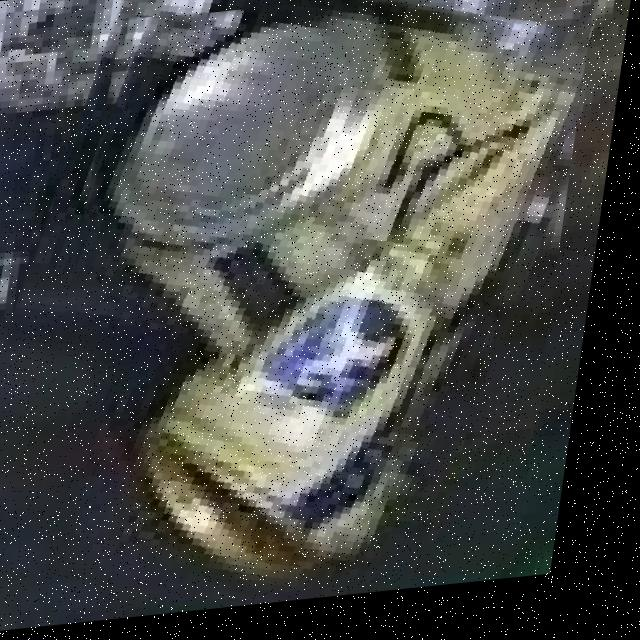can: (97, 6, 591, 605)
